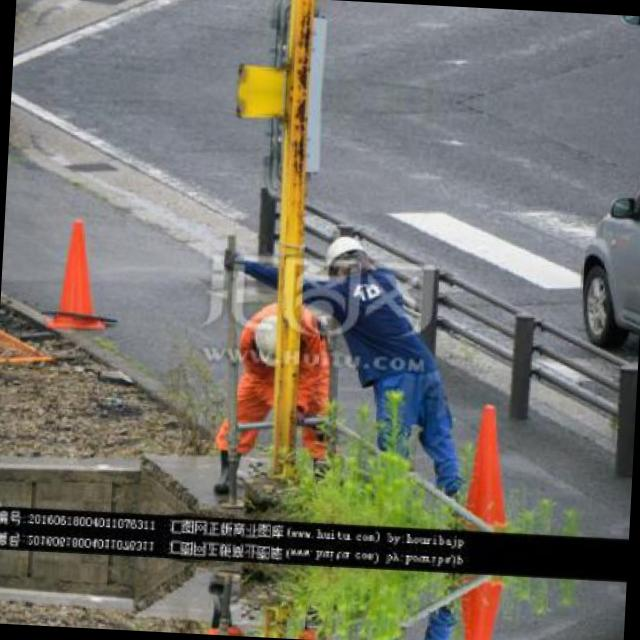helmet: (250, 312, 300, 366), (324, 234, 368, 278)
